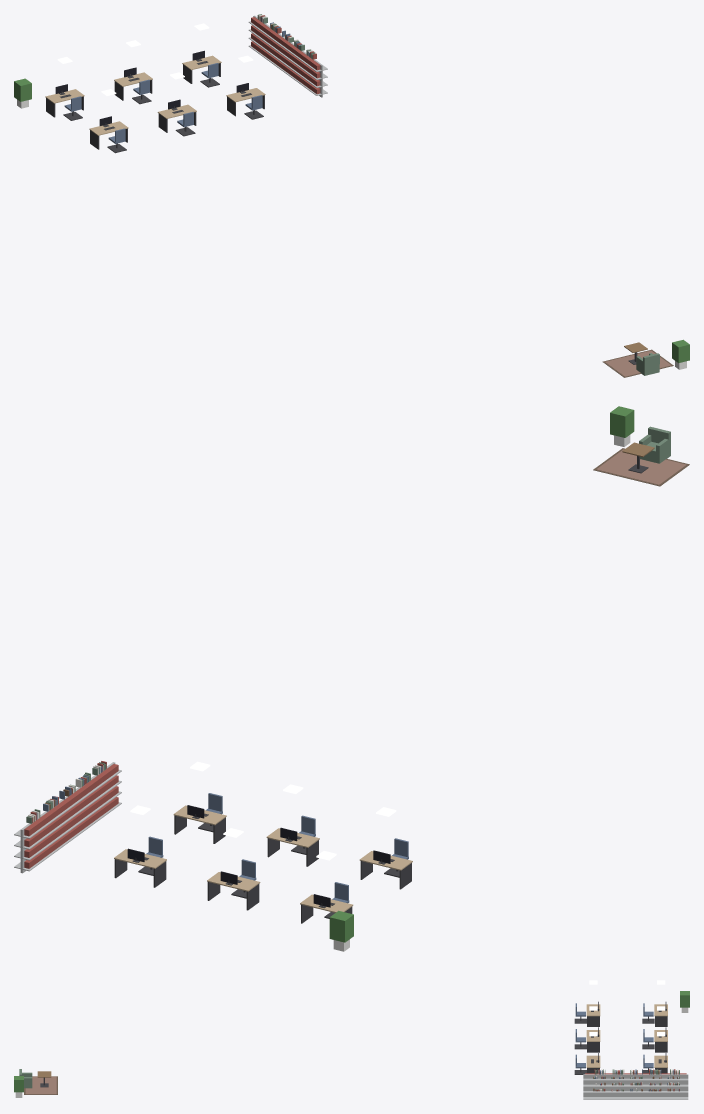
File: fine-s1.glb
3 renders of one model, top to bottom at view 1: azimuth 30°, elevation 25°; view 2: azimuth 150°, elevation 25°; view 3: azimuth 270°, elevation 25°, orthographic. The views are drawn at different scales.
Visible parts, largest first — view 1: soft-s1, shelving.005, shelving.001, shelving.003, office-desk-real.003, office-desk-real.004, office-desk-real.000, office-desk-real.001, office-desk-real.002, office-desk-real.005, shelving.004; view 2: soft-s1, shelving.001, office-desk-real.001, office-desk-real.002, office-desk-real.003, office-desk-real.004, office-desk-real.005, shelving.003, shelving.002, shelving.005, shelving.004, plant-medium.000 (+2 smaller); view 3: soft-s1, shelving.001, shelving.002, shelving.003, shelving.005, shelving.004, office-desk-real.003, office-desk-real.004, office-desk-real.000, office-desk-real.001, office-desk-real.005, office-desk-real.002 (+2 smaller).
Part boxes in pixels (<box>): soft-s1: <box>257,14,673,377</box>; shelving.005: <box>297,51,327,97</box>; shelving.001: <box>248,15,271,60</box>; shelving.003: <box>273,33,295,77</box>; office-desk-real.003: <box>89,116,128,149</box>; office-desk-real.004: <box>157,99,196,132</box>; office-desk-real.000: <box>45,84,84,117</box>; office-desk-real.001: <box>114,67,152,100</box>; office-desk-real.002: <box>182,50,221,83</box>; office-desk-real.005: <box>226,83,265,116</box>; shelving.004: <box>285,43,315,86</box>; soft-s1: <box>26,448,689,823</box>; shelving.001: <box>14,811,56,873</box>; office-desk-real.001: <box>207,871,260,910</box>; office-desk-real.002: <box>114,848,166,887</box>; office-desk-real.003: <box>359,850,412,889</box>; office-desk-real.004: <box>266,827,319,866</box>; office-desk-real.005: <box>173,805,226,843</box>; shelving.003: <box>59,787,89,845</box>; shelving.002: <box>41,798,72,858</box>; shelving.005: <box>91,762,121,822</box>; shelving.004: <box>65,775,105,834</box>; plant-medium.000: <box>610,406,634,446</box>; soft-s1: <box>24,1069,679,1094</box>; shelving.001: <box>658,1073,688,1099</box>; shelving.002: <box>639,1073,669,1099</box>; shelving.003: <box>620,1073,650,1099</box>; shelving.005: <box>583,1073,613,1099</box>; shelving.004: <box>602,1073,631,1099</box>; office-desk-real.003: <box>586,1001,600,1026</box>; office-desk-real.004: <box>586,1027,600,1052</box>; office-desk-real.000: <box>654,1002,667,1026</box>; office-desk-real.001: <box>654,1027,667,1052</box>; office-desk-real.005: <box>586,1053,600,1073</box>; office-desk-real.002: <box>654,1053,667,1073</box>.
Bounding box in the file's own units: 12.87 × 2.56 × 39.94.
